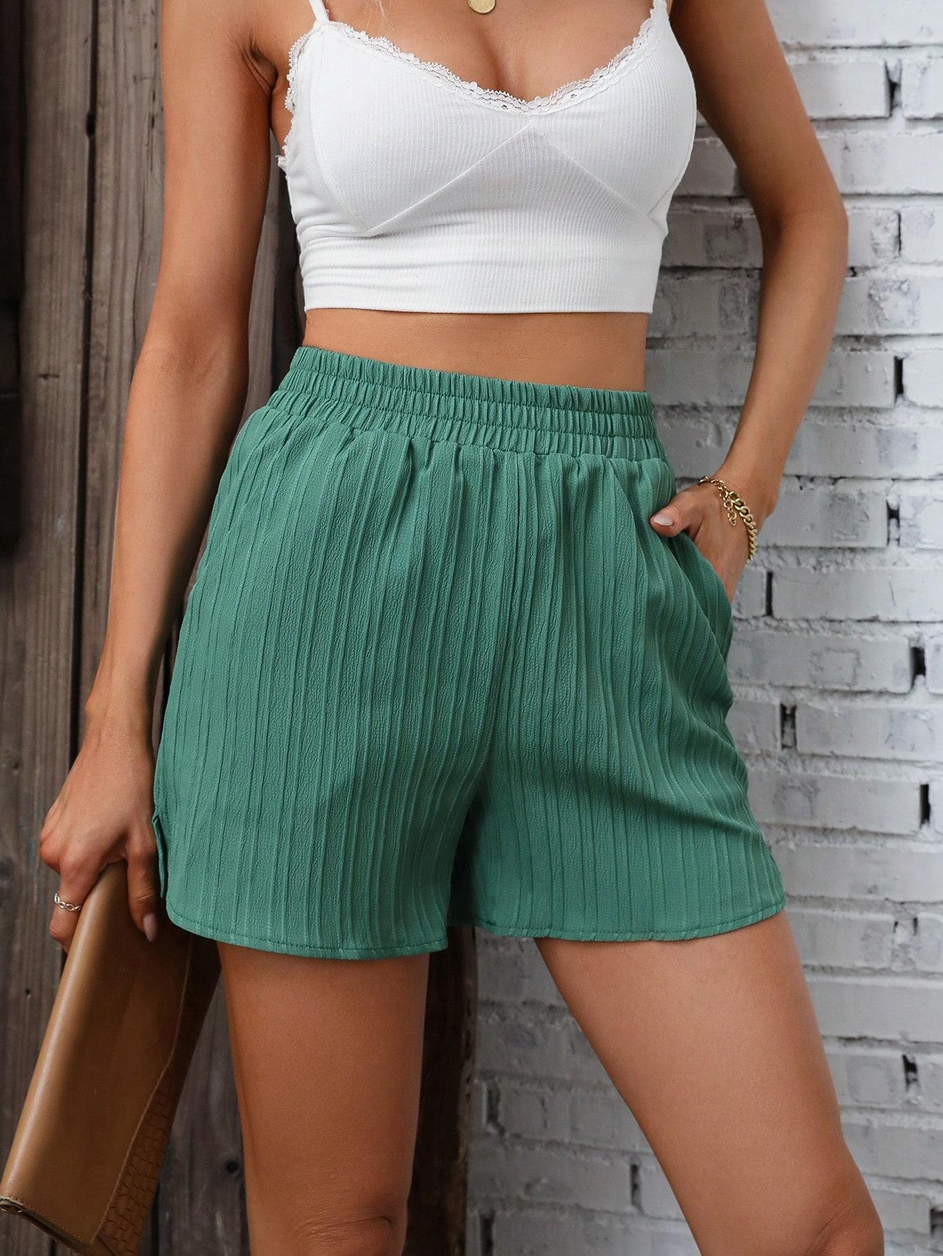Shorts: (136, 338, 799, 967)
vest: (278, 0, 710, 321)
